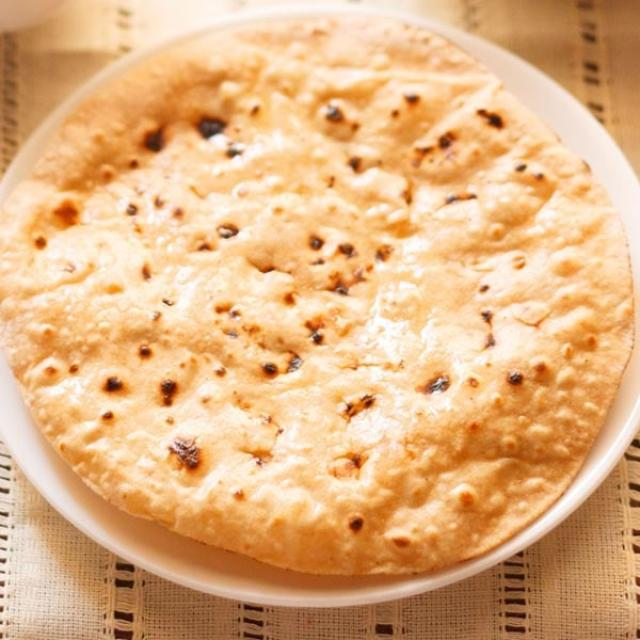ROTI: (0, 4, 635, 577)
